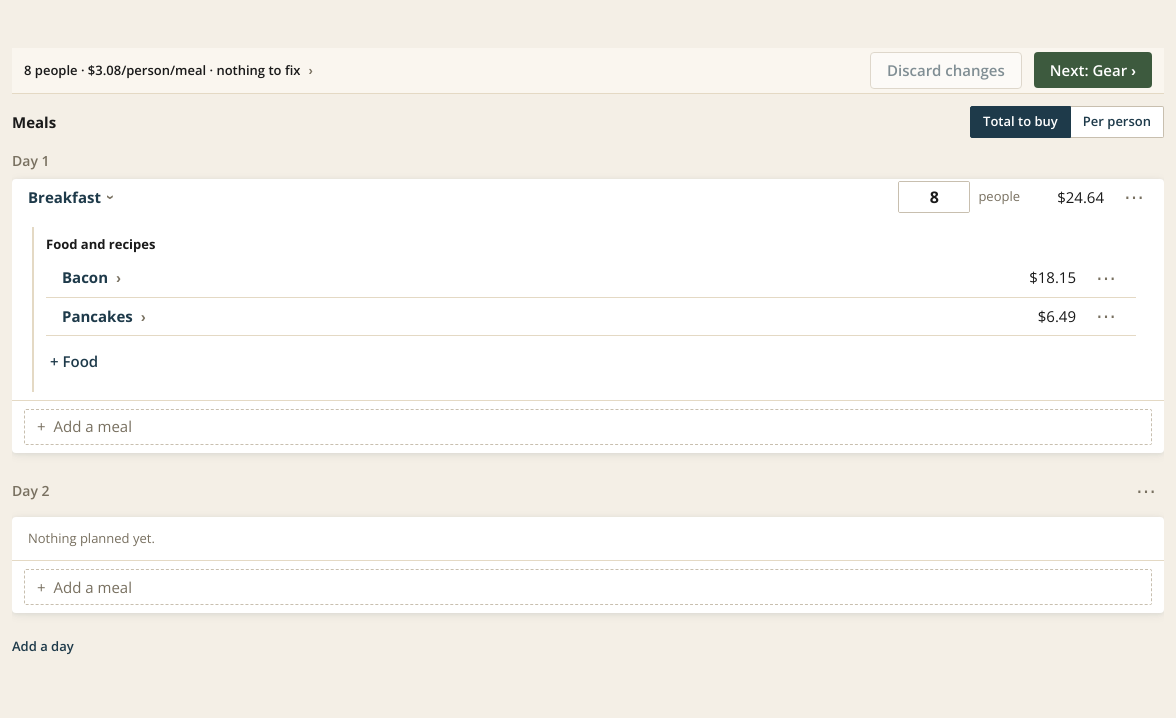
Scenario: Plan tab — brands › AChosenBrand_IsNamed_AndTheActionBecomesChange
Click the button "Bacon ›". click: (92, 278)
box: [62,266,121,289]
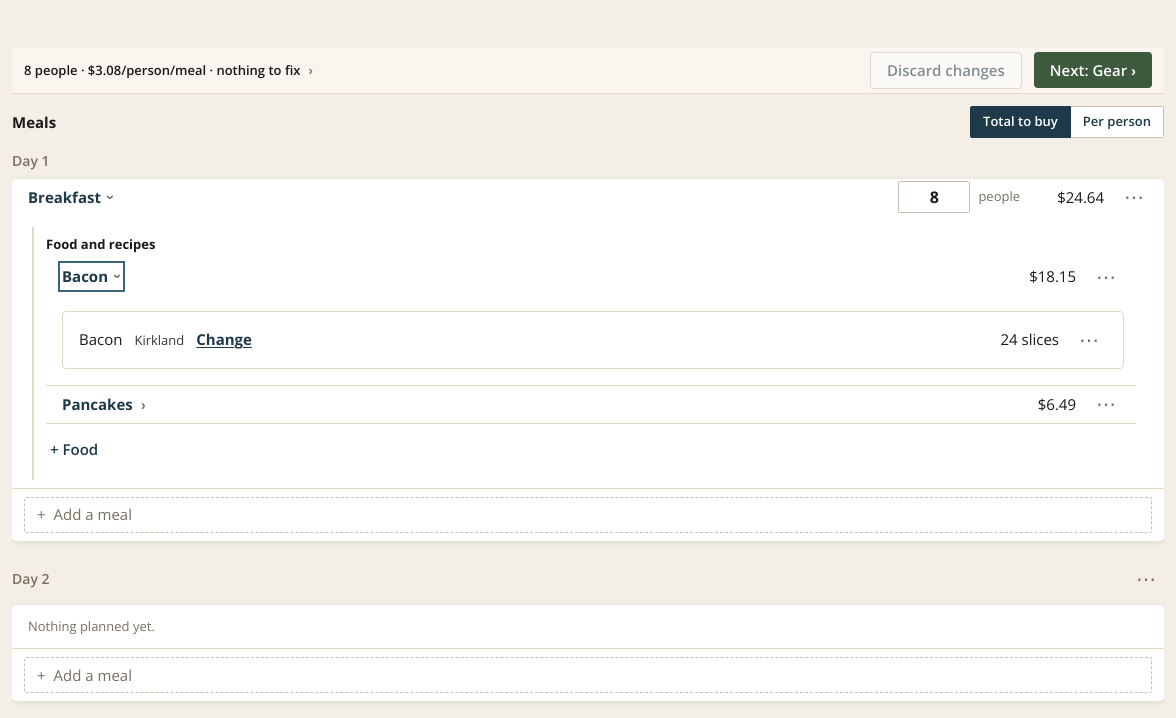
Expected: the text "Kirkland" is shown, [134,331,184,351]
Expected: the button with aria-label "Change for Bacon" reads "Change", [196,328,252,351]
